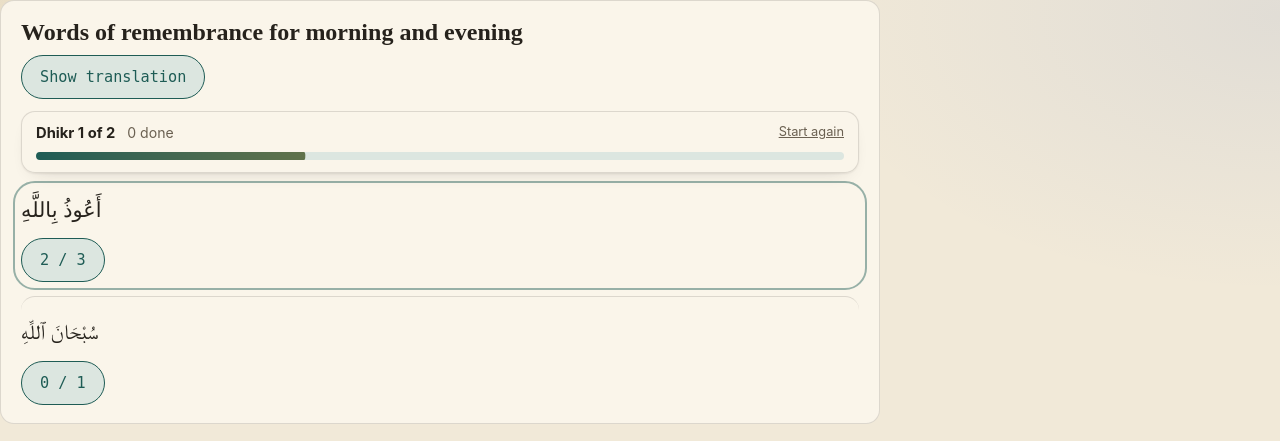
Test case: AzkarList — progress › clears the count only on a second tap — one tap asks, so progress is not lost by accident
The image size is (1280, 441).
Click the button "Start again" at (811, 131), box [779,122,844,141]
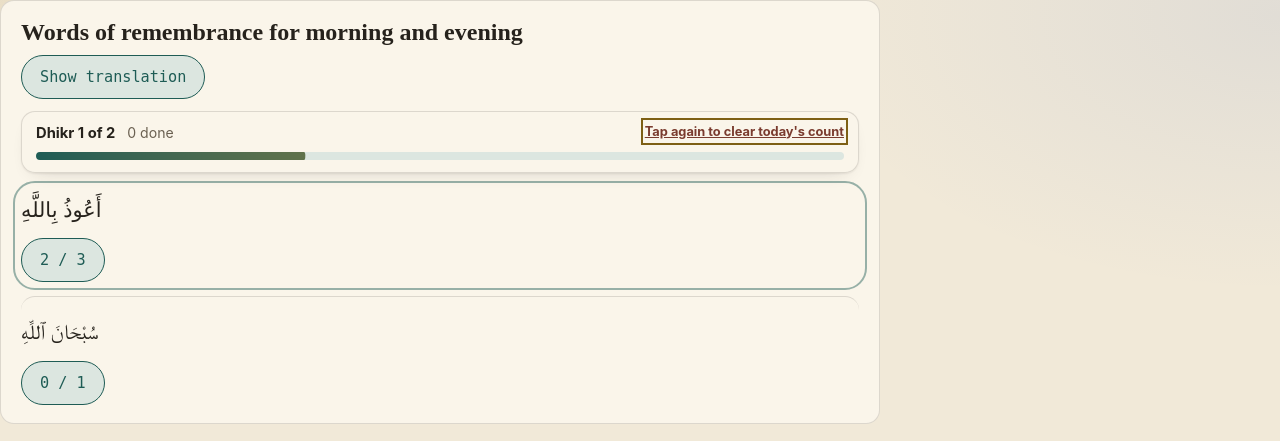
Expected: the button "Tap again to clear today's count" is shown
Click the button "Tap again to clear today's count" at (744, 131), box [645,122,844,141]
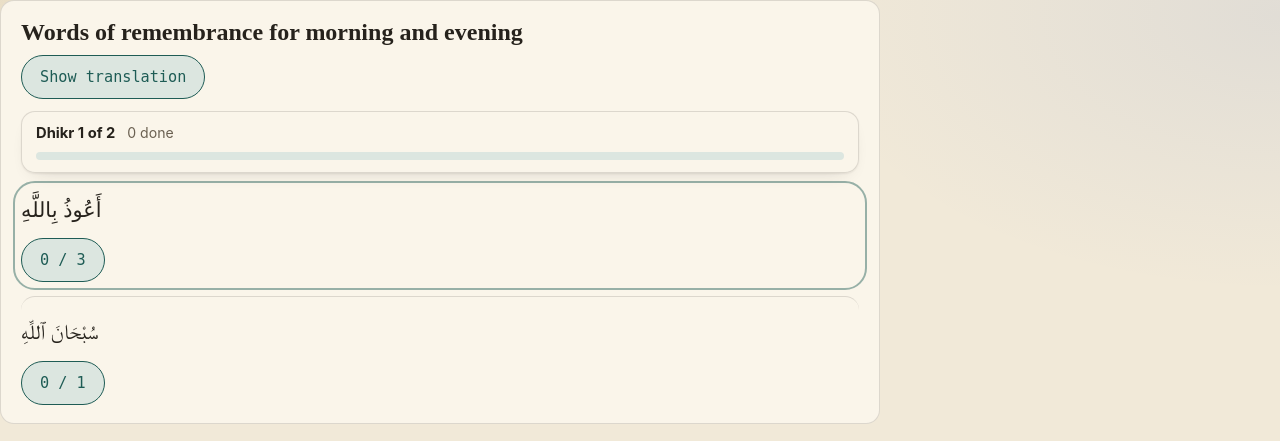
Expected: the button "Start again" is not shown
Expected: the button "0 / 3" is shown, [21,238,105,282]
